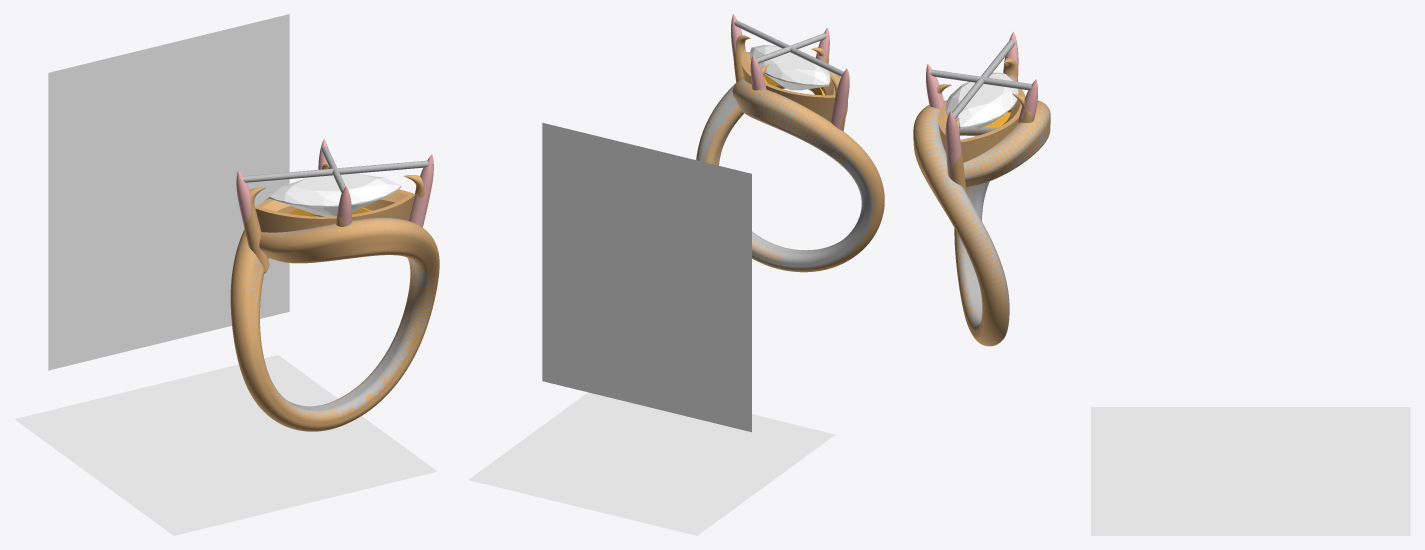
The picture shows the model from 3 angles, left to right: view 1: azimuth 30°, elevation 25°; view 2: azimuth 150°, elevation 25°; view 3: azimuth 270°, elevation 25°; orthographic projection. The views are drawn at different scales.
Visible parts, largest first — view 1: LR-123dm, Diamond_Marquise; view 2: LR-123dm, Diamond_Marquise; view 3: LR-123dm, Diamond_Marquise.
Part boxes in pixels (<box>): LR-123dm: <box>14,14,439,535</box>; Diamond_Marquise: <box>269,173,400,216</box>; LR-123dm: <box>468,14,884,535</box>; Diamond_Marquise: <box>750,45,830,90</box>; LR-123dm: <box>913,31,1410,535</box>; Diamond_Marquise: <box>945,72,1018,129</box>.
Bounding box in the file's own units: 3.33 × 4.42 × 5.14.
